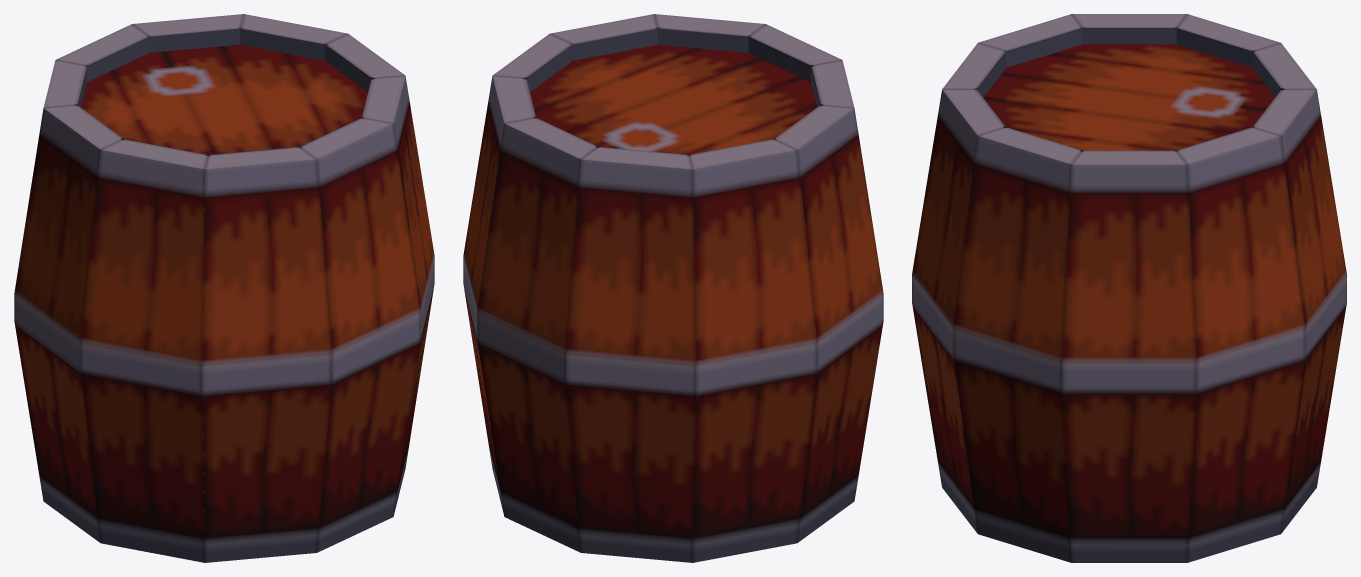
File: barrel.fbx
The picture shows the model from 3 angles, left to right: view 1: azimuth 30°, elevation 25°; view 2: azimuth 150°, elevation 25°; view 3: azimuth 270°, elevation 25°; orthographic projection.
Visible parts, largest first — view 1: Cylinder; view 2: Cylinder; view 3: Cylinder.
Boxes of the visible parts, x1,y1,x2,y2 form: Cylinder: (14, 14, 434, 562); Cylinder: (463, 14, 883, 562); Cylinder: (912, 14, 1346, 562).
Size of the model in its own units: 94.08 by 100 by 98.92.
Materials: 1 (1 with a texture image).
